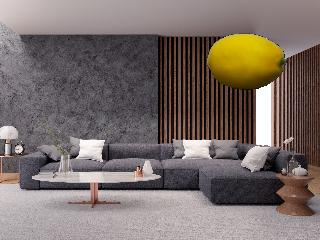lemon: (204, 31, 290, 92)
